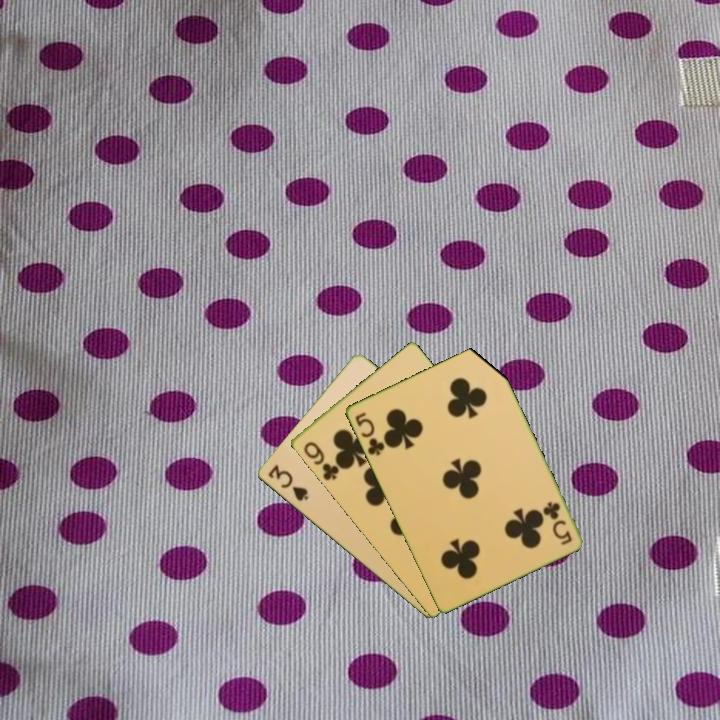3s: (264, 461, 311, 504)
5c: (539, 498, 575, 548), (351, 409, 387, 458)
9c: (299, 438, 342, 483)
